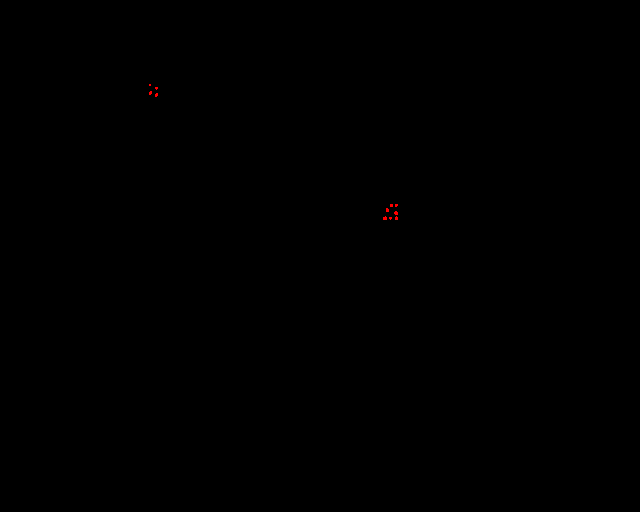Target: (394, 211, 398, 215), (383, 216, 387, 220), (149, 91, 152, 95), (155, 93, 158, 97), (386, 208, 389, 212), (395, 216, 398, 220), (155, 87, 158, 90), (390, 204, 393, 207), (395, 204, 398, 207), (389, 217, 392, 220), (149, 84, 151, 86)
